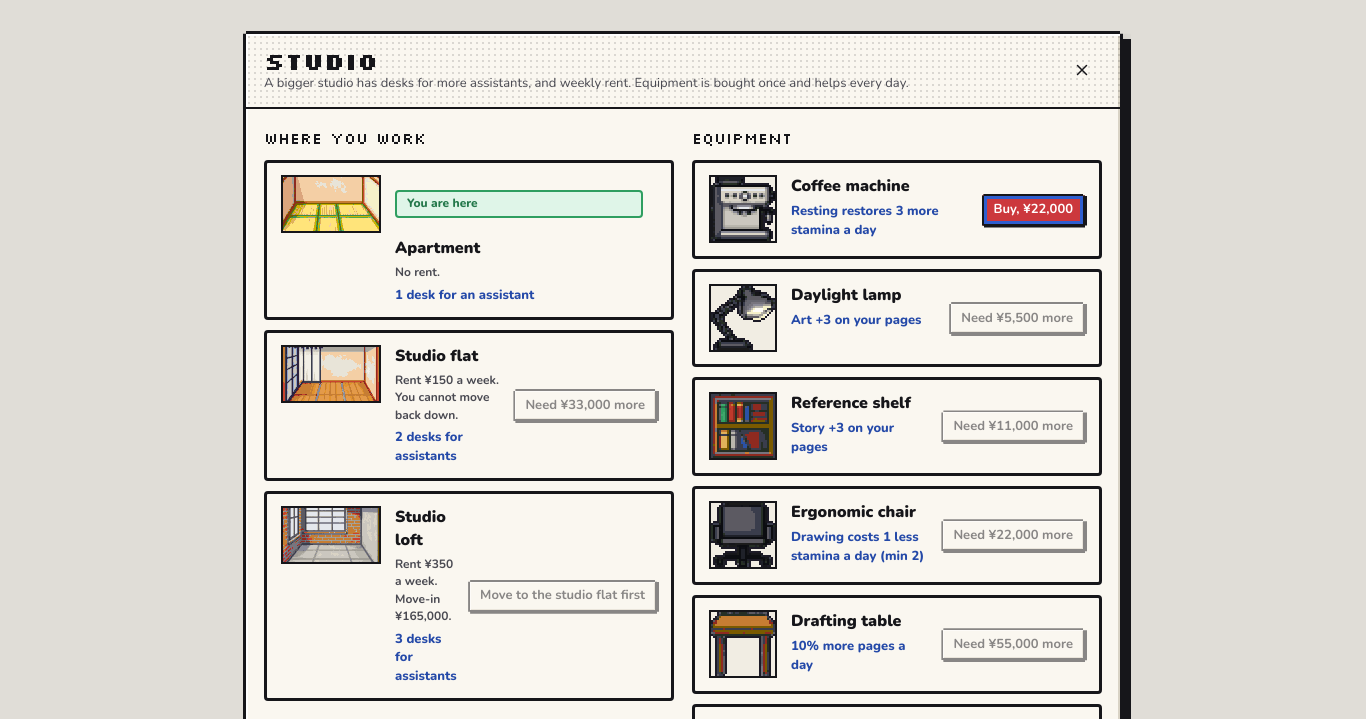
Scenario: StudioModal › buys a piece, which then reads Owned
Step 1. Click the button "Buy, ¥22,000" → (1033, 210), box [982,194,1085,226]
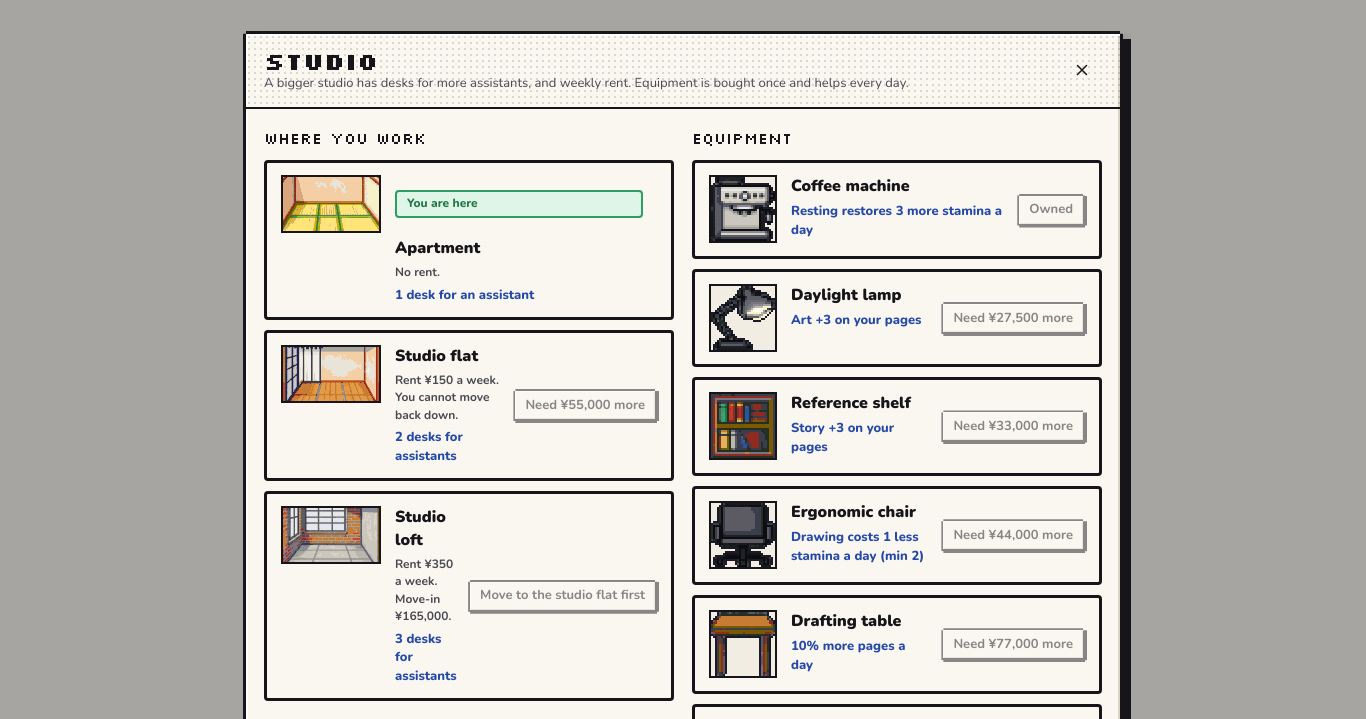
Check: the button "Owned" is disabled, box [1017,194,1085,226]
